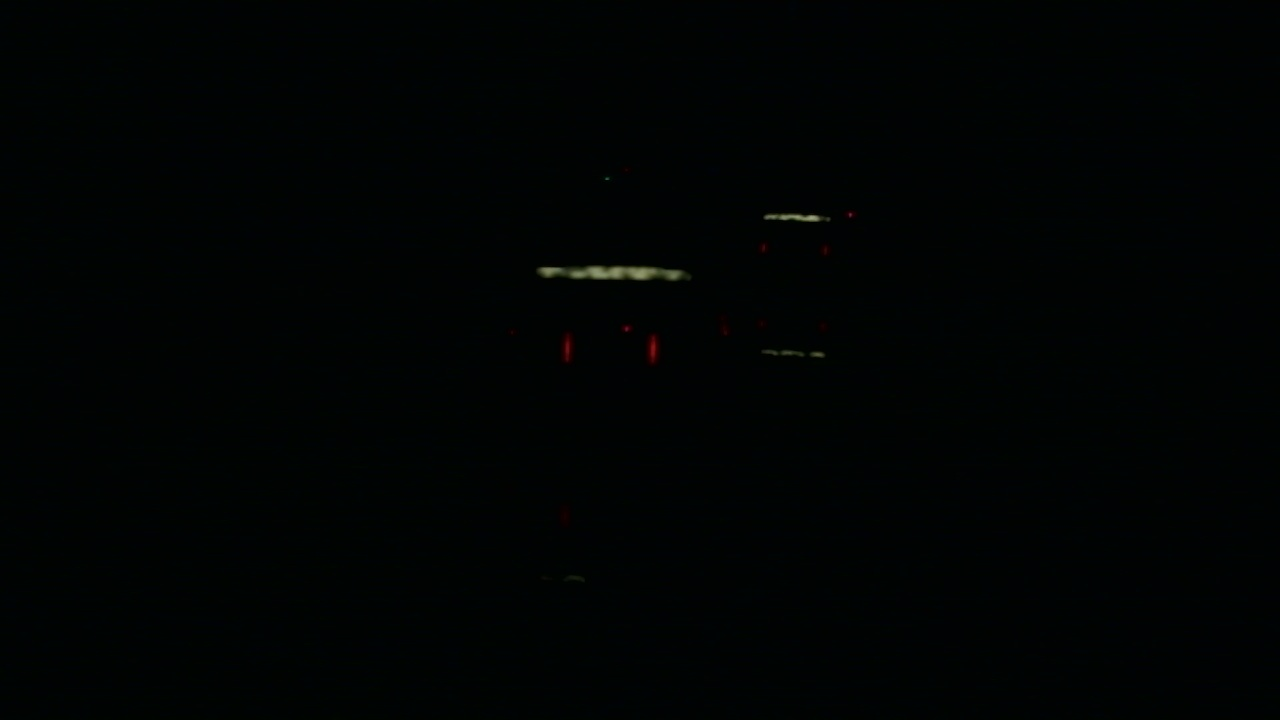lamp: (648, 332, 658, 361), (562, 331, 571, 362)
pair1: (564, 334, 656, 361)
